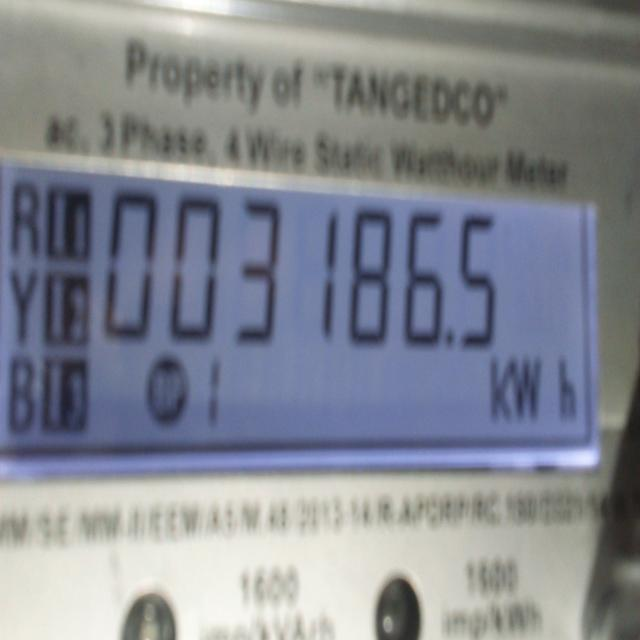.: (441, 324, 456, 356)
0: (165, 186, 222, 352), (103, 187, 157, 348)
1: (305, 192, 344, 355)
3: (234, 191, 284, 354)
5: (455, 206, 499, 352)
6: (399, 209, 445, 359)
8: (349, 201, 393, 356)
